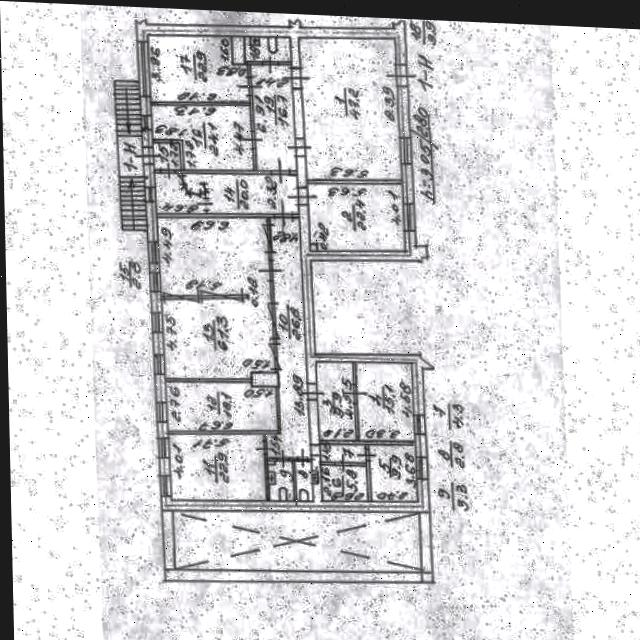room: (157, 213, 273, 383), (302, 36, 401, 186), (255, 217, 309, 462), (147, 36, 250, 104), (306, 184, 405, 253), (166, 434, 265, 501), (151, 106, 253, 171), (153, 173, 298, 216), (164, 382, 277, 433), (251, 64, 295, 174), (357, 362, 413, 444), (116, 81, 145, 230), (316, 362, 353, 442), (368, 445, 415, 504), (319, 467, 367, 503), (244, 38, 291, 63), (267, 461, 292, 502), (294, 462, 317, 502), (319, 446, 364, 464), (153, 143, 179, 171)
